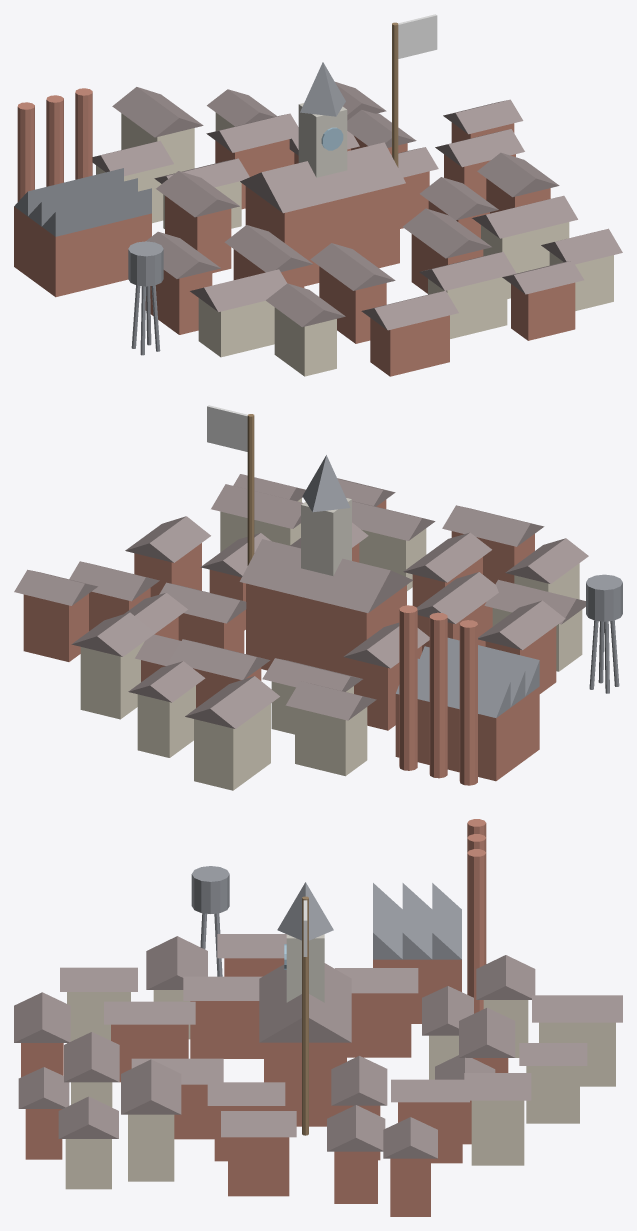
The model's file is civ_city_industrial_metro.glb.
3 views of the same model, one above another, from view 1: azimuth 30°, elevation 25°; view 2: azimuth 150°, elevation 25°; view 3: azimuth 270°, elevation 25° (orthographic). The views are drawn at different scales.
Parts seen in each view (by area): view 1: civ_city_industrial_metro; view 2: civ_city_industrial_metro; view 3: civ_city_industrial_metro.
Part boxes in pixels (x1,y1,x2,y2): civ_city_industrial_metro: [14, 14, 622, 376]; civ_city_industrial_metro: [14, 405, 622, 790]; civ_city_industrial_metro: [14, 819, 622, 1216].
Bounding box in the file's own units: 4.93 × 2.2 × 5.14.
